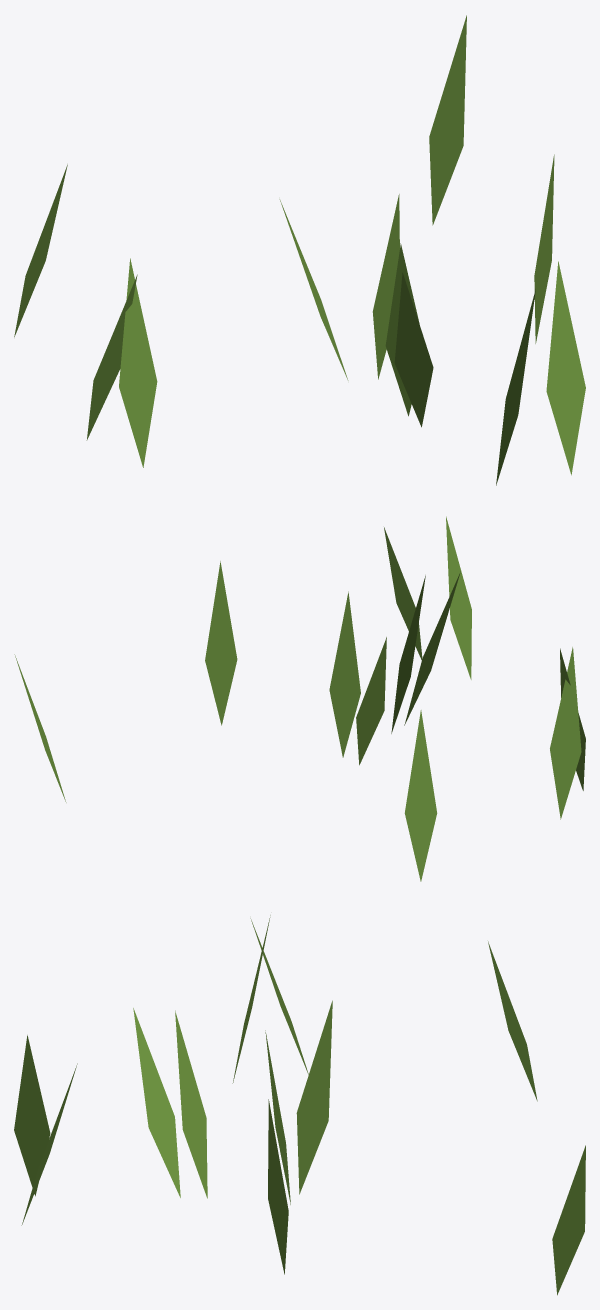
Rendered from barley_s0.glb.
3 renders of one model, top to bottom at view 1: azimuth 30°, elevation 25°; view 2: azimuth 150°, elevation 25°; view 3: azimuth 270°, elevation 25°, orthographic. The views are drawn at different scales.
Parts seen in each view (by area): view 1: barley; view 2: barley; view 3: barley.
Boxes of the visible parts, x1=… form: barley: x1=14, y1=15, x2=585, y2=485; barley: x1=14, y1=516, x2=585, y2=881; barley: x1=14, y1=915, x2=585, y2=1295.
Size of the model in its own units: 0.3084 by 0.1075 by 0.3072.
